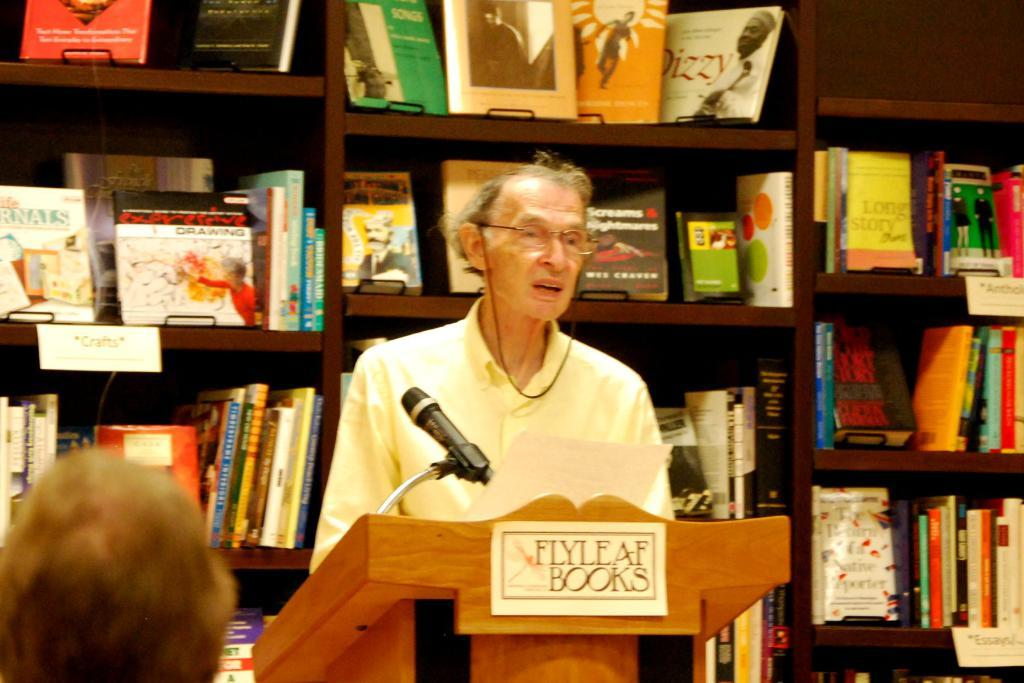Book: (0, 169, 319, 338), (198, 383, 320, 566), (906, 157, 1023, 283), (808, 322, 913, 458), (813, 136, 908, 277), (924, 322, 1023, 457), (812, 493, 900, 631)
